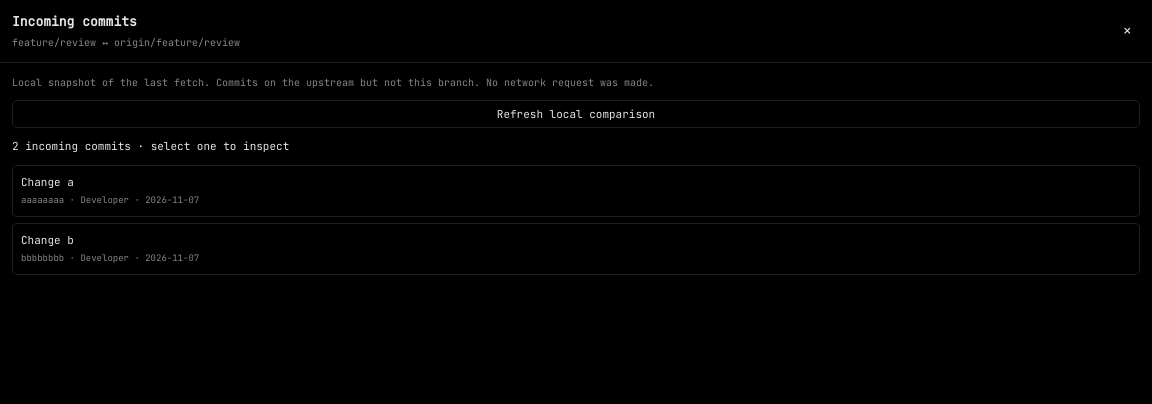
Test: ignores older patch results when the selected commit changes
Click the button that starts with "Change a": (47, 182) [12, 164, 1140, 216]
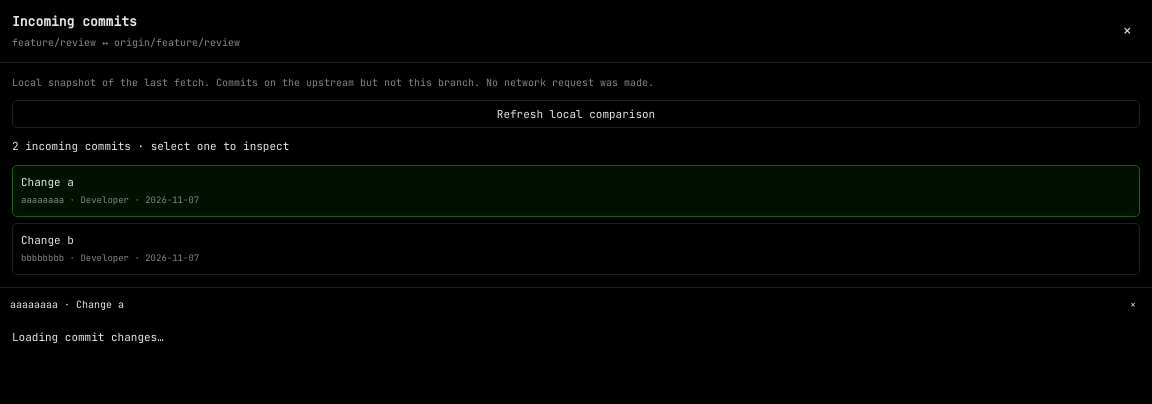
Click the button that starts with "Change b": (47, 240) [12, 222, 1140, 274]
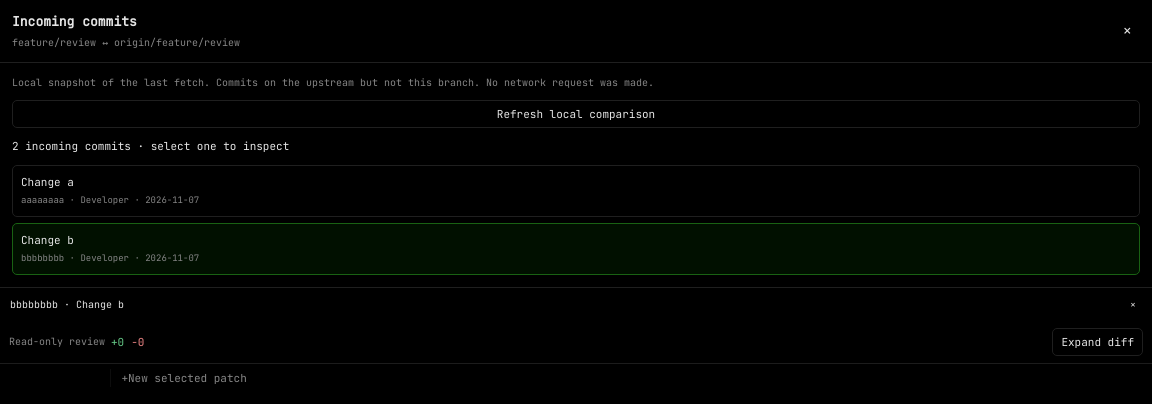
Result: the text "+New selected patch" is shown at [121, 371, 247, 385]
